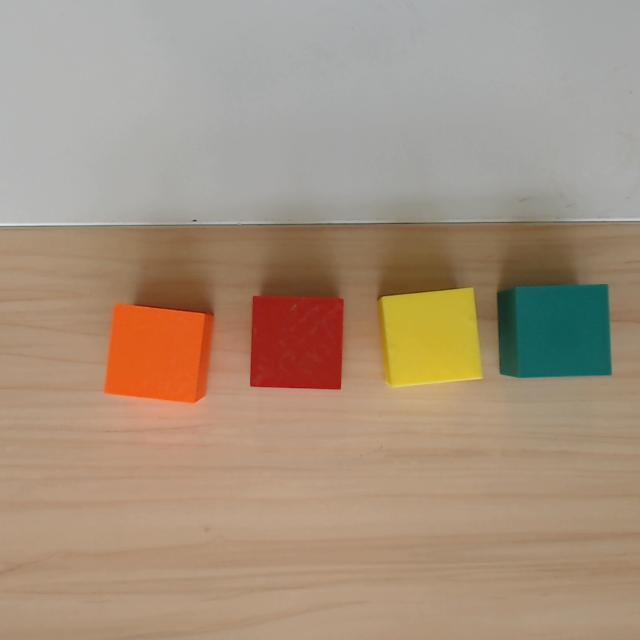Kubus-Hijau-505050: (498, 284, 611, 378)
Kubus-Jingga-505050: (104, 303, 214, 404)
Kubus-Kuning-505050: (377, 286, 483, 388)
Kubus-Merah-505050: (250, 296, 343, 388)
